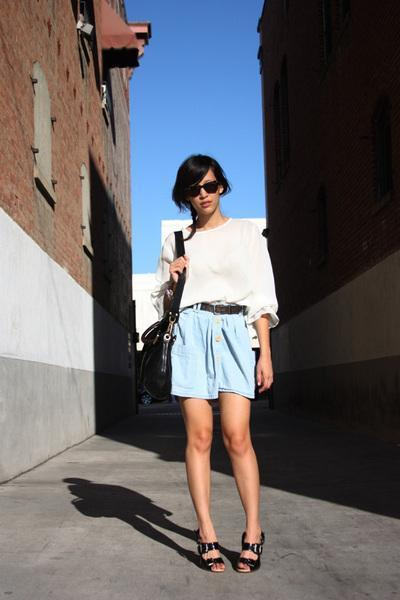bag: (142, 228, 195, 401)
shirt: (150, 209, 278, 327)
shoe: (191, 540, 263, 572)
shorts: (171, 307, 257, 398)
sunglass: (198, 180, 227, 195)
